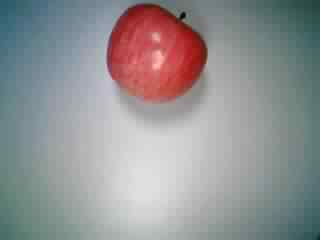apple: (105, 1, 210, 103)
